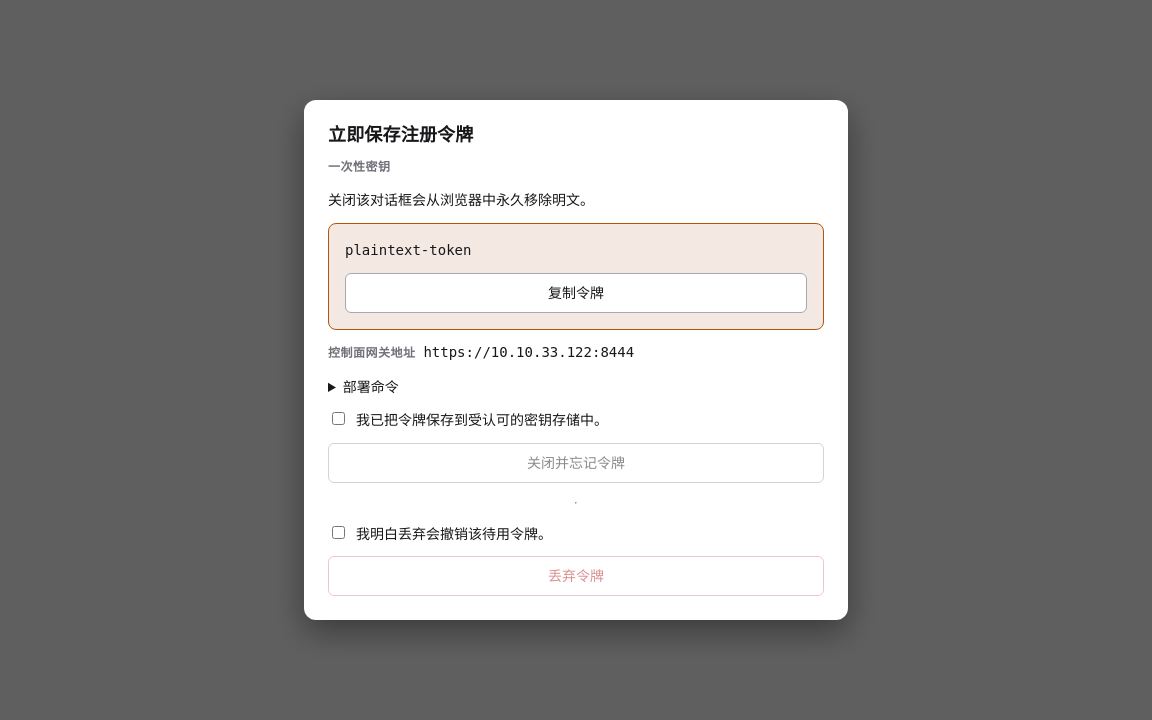
it: EnrollmentTokenModal › reports a clipboard write the browser refused (UX-009)
Click the button "复制令牌" at (576, 293), box [345,273,807,313]
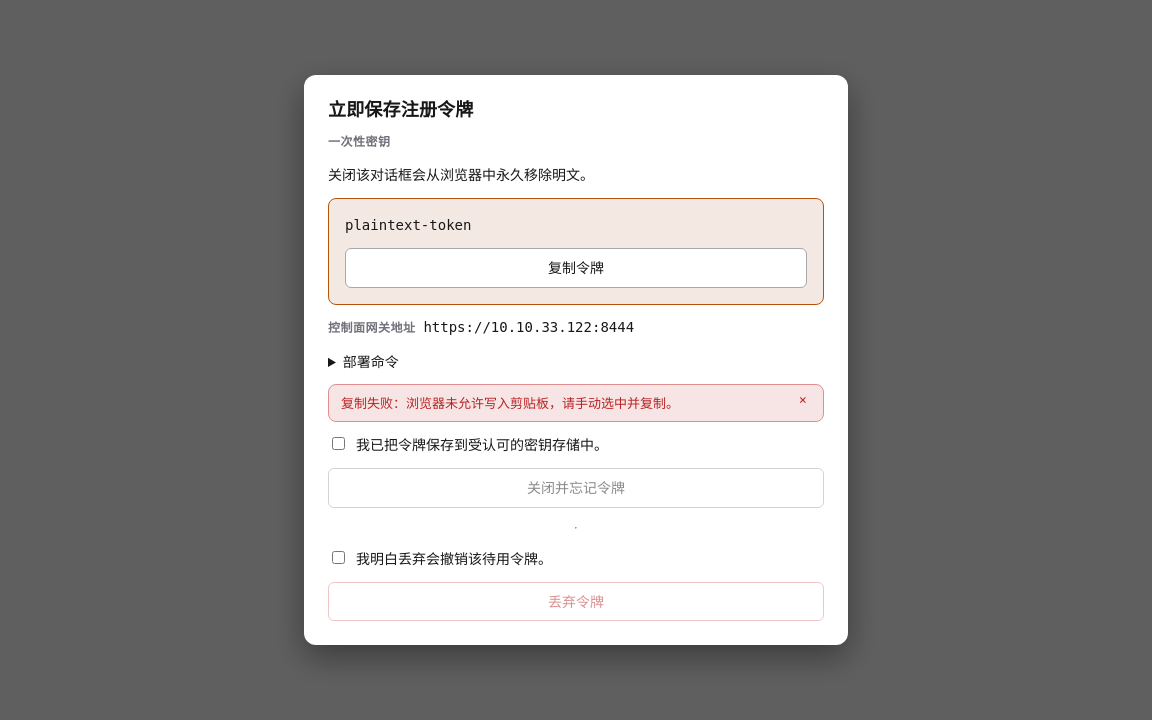
expect the text "plaintext-token" is shown: met, box [345,217,471,233]
expect the message "复制失败：浏览器未允许写入剪贴板，请手动选中并复制。 ×" is shown: met, box [328,384,824,422]
expect the message with test id "enrollment-copy-notice" shows "复制失败：浏览器未允许写入剪贴板，请手动选中并复制。": met, box [341,395,679,411]
